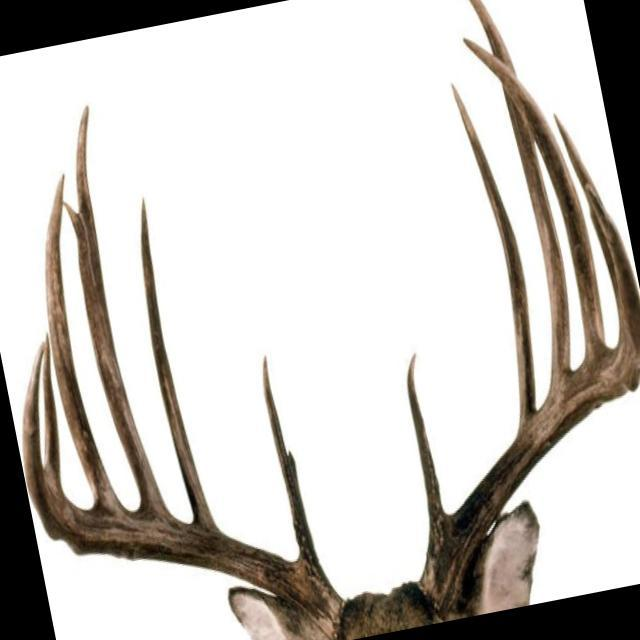L-F: (418, 181, 640, 613)
L-G1: (406, 352, 446, 541)
L-G2: (451, 83, 538, 426)
L-G4: (462, 37, 608, 357)
R-F: (21, 338, 346, 640)
R-G1: (262, 353, 323, 572)
R-G2: (141, 195, 218, 528)
R-G3: (77, 103, 173, 518)
R-G4: (45, 175, 123, 507)
